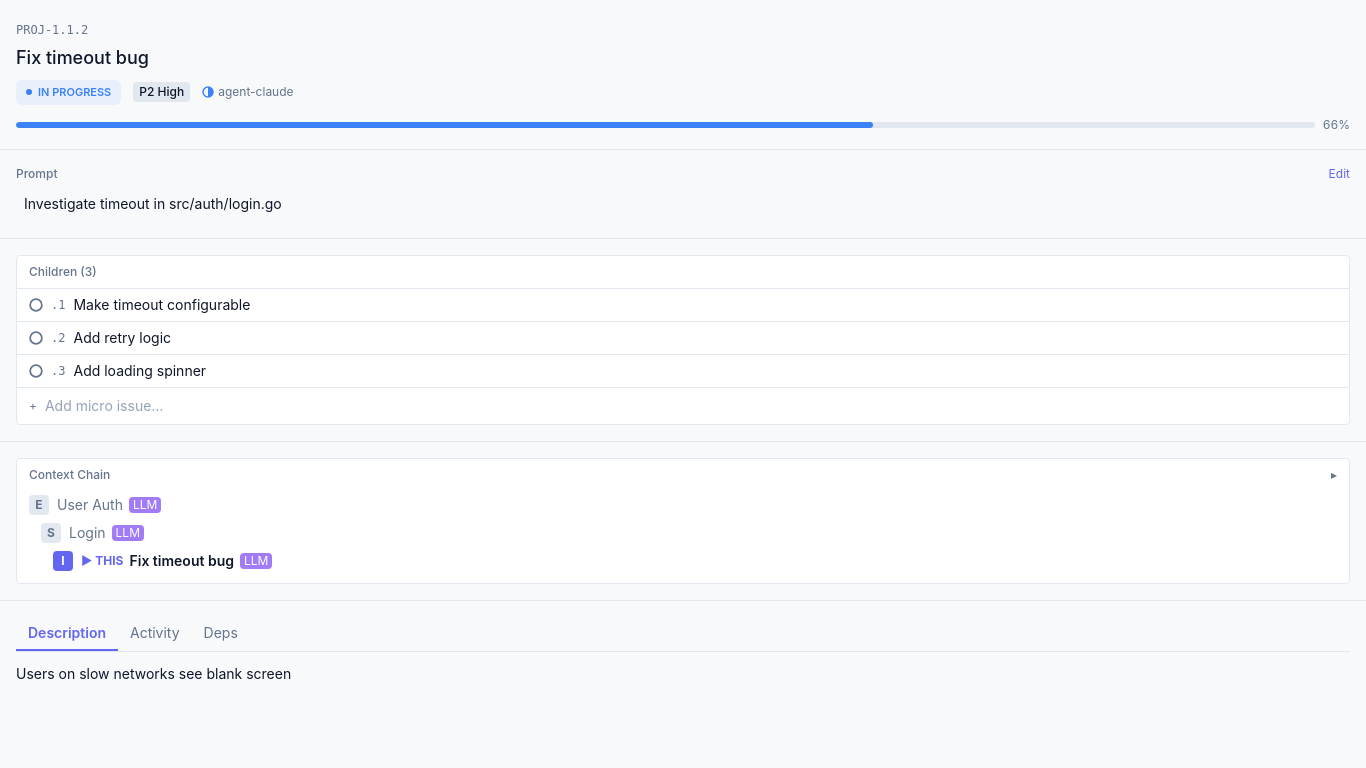
Test: NodeDetail › switches to Deps tab
Click the button with test id "tab-deps". click: {"x": 221, "y": 634}
box: [192,616,250,650]
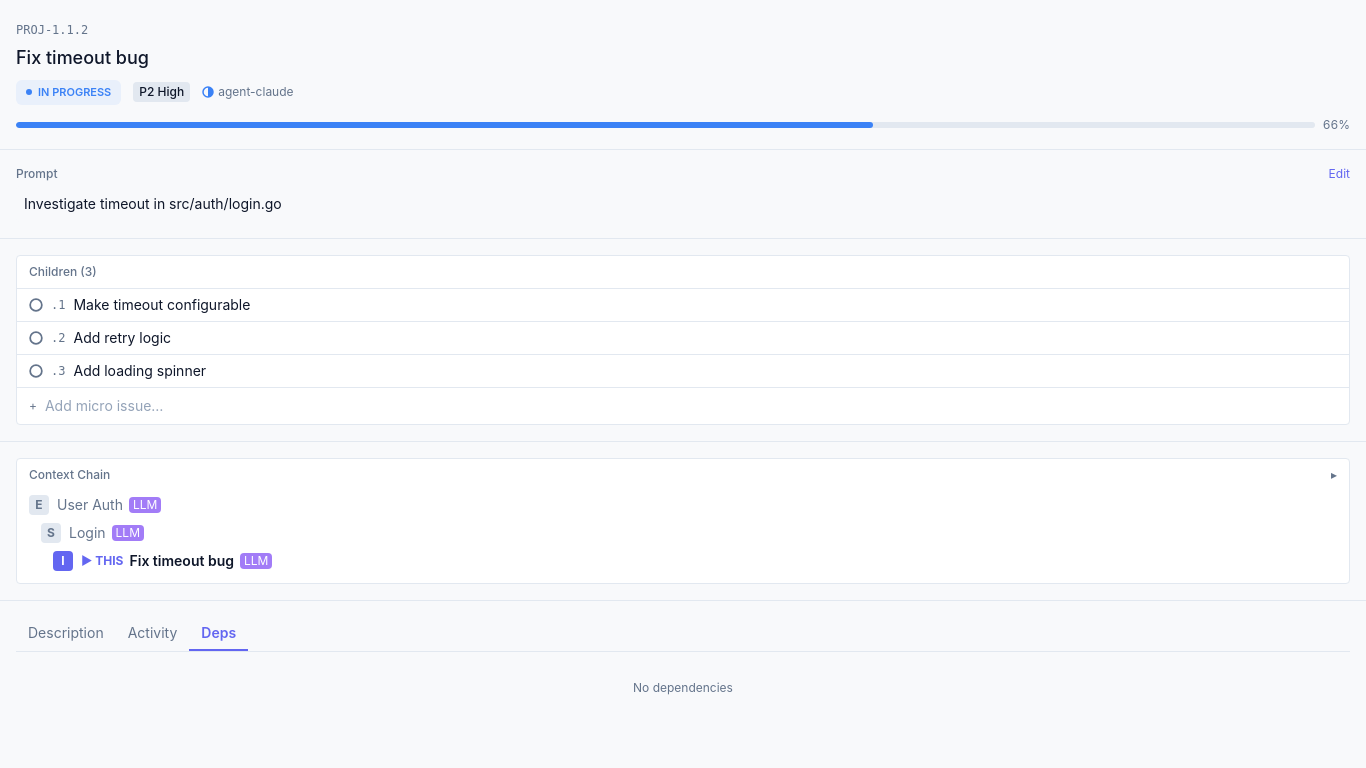
expect the text "No dependencies" is shown: met, box [633,680,733,694]
